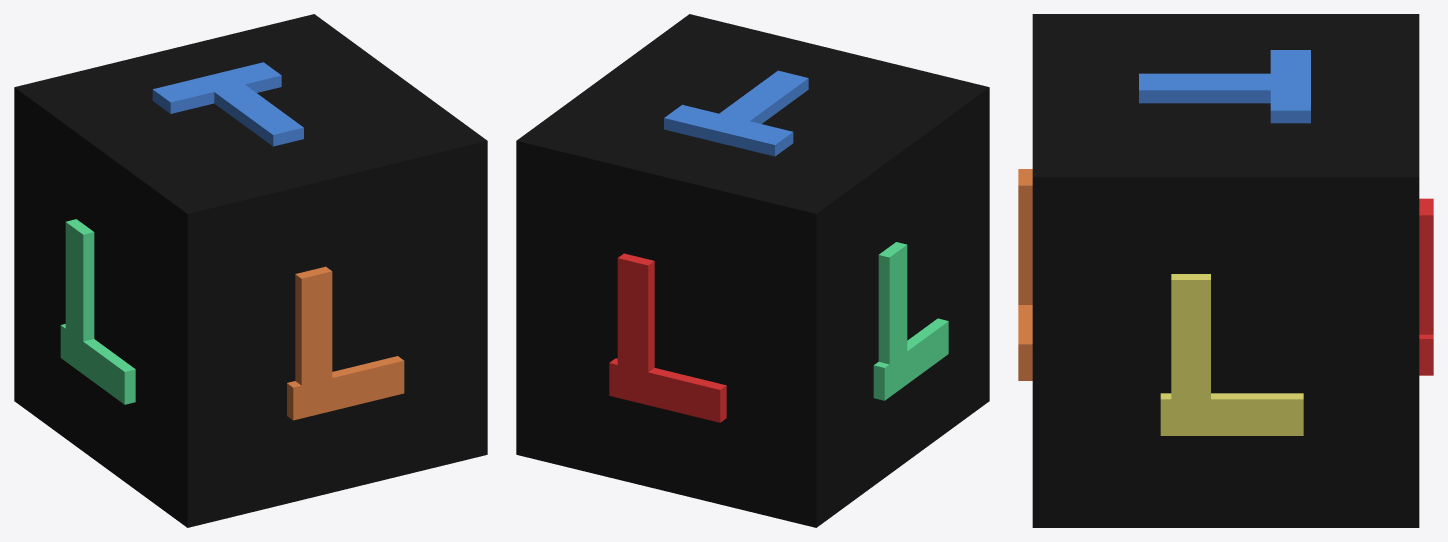
File: TARGET_CUBE_1.glb
3 renders of one model, left to right at view 1: azimuth 30°, elevation 25°; view 2: azimuth 150°, elevation 25°; view 3: azimuth 270°, elevation 25°, orthographic. The views are drawn at different scales.
Parts seen in each view (by area): view 1: TARGET; view 2: TARGET; view 3: TARGET.
Part boxes in pixels (x1,y1,x2,y2): TARGET: (14,14,487,527); TARGET: (516,14,989,527); TARGET: (1018,14,1433,527).
Bounding box in the file's own units: 2.15 × 2.15 × 2.15.
